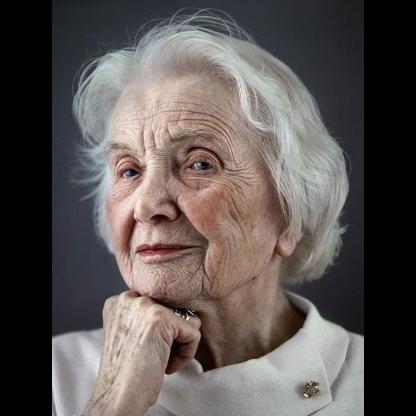Female: (102, 75, 304, 302)
